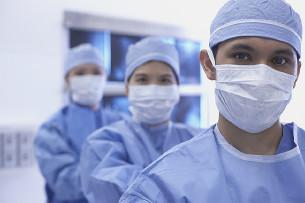OK: (212, 42, 302, 132), (130, 70, 180, 121), (70, 65, 106, 105)
